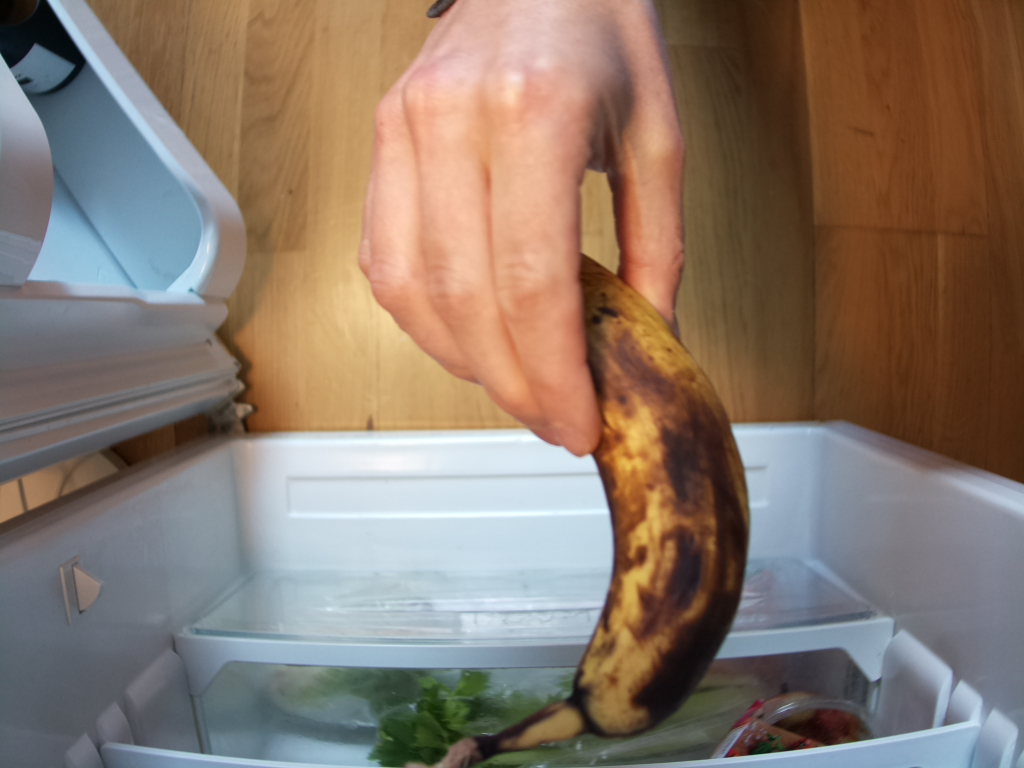banana-overripe: (477, 242, 752, 768)
